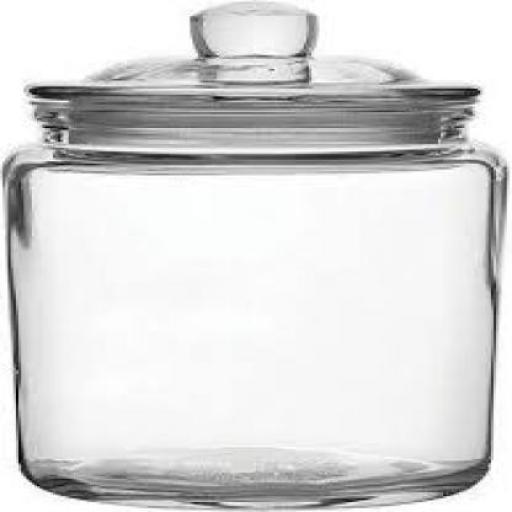glass: (0, 0, 505, 506)
